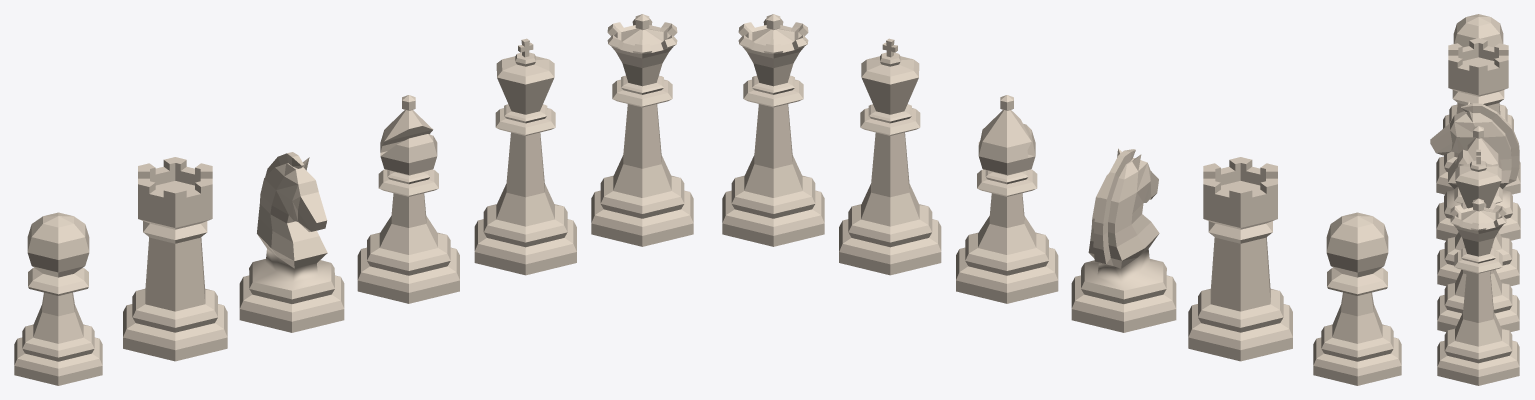
File: ChessSet.fbx
3 renders of one model, left to right at view 1: azimuth 30°, elevation 25°; view 2: azimuth 150°, elevation 25°; view 3: azimuth 270°, elevation 25°, orthographic. The views are drawn at different scales.
Visible parts, largest first — view 1: Rook.001, Queen, King, Knight.001, Bishop.001, Pawn.007; view 2: Rook.001, Queen, King, Knight.001, Bishop.001, Pawn.007; view 3: Queen, Knight.001, Rook.001, King, Bishop.001, Pawn.007.
Boxes of the visible parts, box(x1,y1,x2,y2) form: Rook.001: box(123, 157, 227, 361); Queen: box(591, 14, 693, 246); King: box(474, 38, 576, 275); Knight.001: box(239, 152, 344, 332); Bishop.001: box(357, 95, 459, 303); Pawn.007: box(14, 212, 102, 385); Rook.001: box(1188, 157, 1292, 361); Queen: box(722, 14, 824, 246); King: box(839, 38, 941, 275); Knight.001: box(1071, 148, 1176, 332); Bishop.001: box(956, 95, 1058, 303); Pawn.007: box(1313, 212, 1401, 385); Queen: box(1437, 198, 1519, 385); Knight.001: box(1430, 101, 1520, 240); Rook.001: box(1436, 38, 1520, 194); King: box(1437, 149, 1519, 331); Bishop.001: box(1437, 126, 1519, 286); Pawn.007: box(1443, 14, 1513, 130).
Bounding box in the file's own units: 582 × 172 × 83.16.
